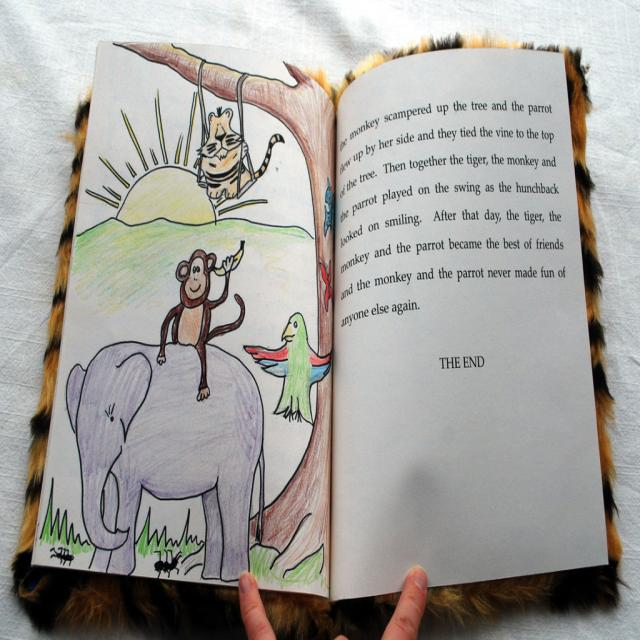elephant: (33, 302, 279, 588)
